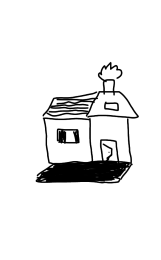door: (99, 137, 122, 162)
open_window: (53, 125, 83, 147)
roof: (35, 90, 139, 121)
shadow: (27, 160, 144, 185)
small_house: (1, 1, 161, 260)
smoking_chimney: (96, 53, 125, 93)
wall: (41, 114, 96, 164)
